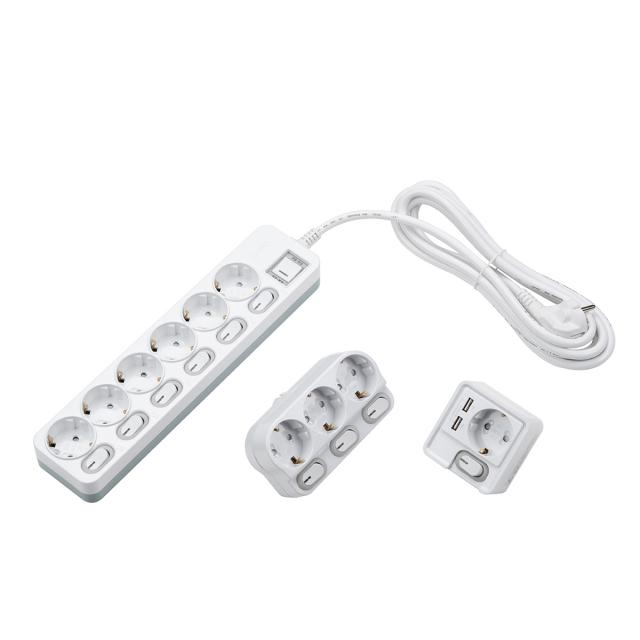typeb: (228, 339, 422, 512), (131, 195, 350, 344)
